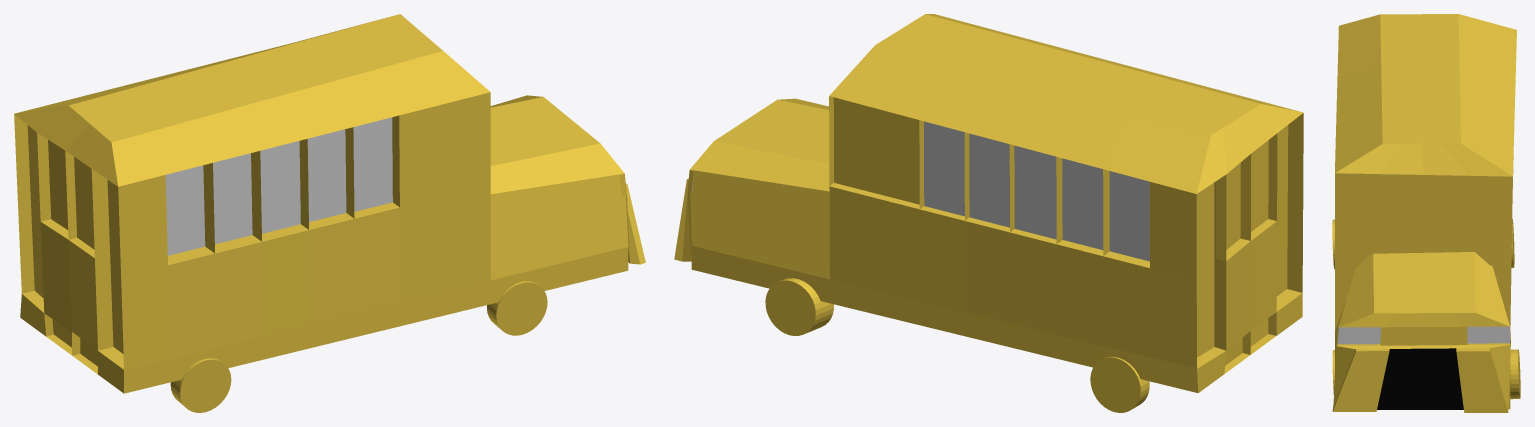
3 renders of one model, left to right at view 1: azimuth 30°, elevation 25°; view 2: azimuth 150°, elevation 25°; view 3: azimuth 270°, elevation 25°, orthographic. The views are drawn at different scales.
Parts seen in each view (by area): view 1: CAR, WHEEL 1, WHEEL 2; view 2: CAR, WHEEL 4, WHEEL 3; view 3: CAR, WHEEL 4.
Boxes of the visible parts, bbox=[...] form: CAR: bbox=[14, 14, 645, 393]; WHEEL 1: bbox=[170, 358, 231, 412]; WHEEL 2: bbox=[487, 281, 547, 335]; CAR: bbox=[674, 14, 1303, 392]; WHEEL 4: bbox=[765, 278, 833, 335]; WHEEL 3: bbox=[1090, 356, 1149, 412]; CAR: bbox=[1332, 14, 1516, 412]; WHEEL 4: bbox=[1510, 349, 1520, 399].
Size of the model in its own units: 588 by 295 by 215.
